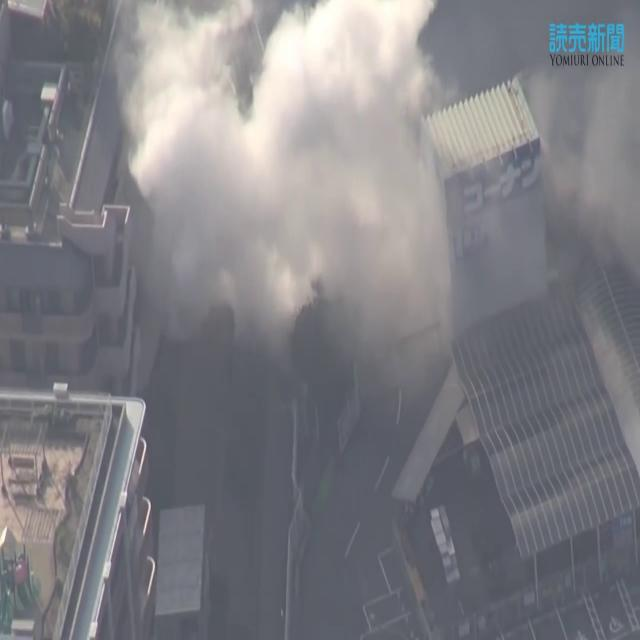Smoke: (62, 0, 457, 412)
